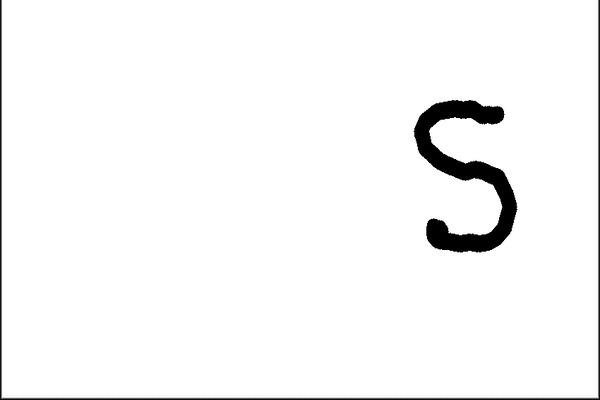S: (399, 84, 529, 273)
